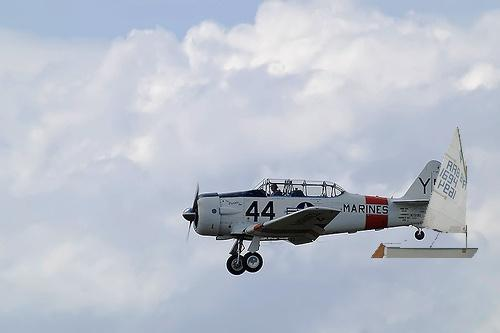tampered: (372, 128, 478, 258)
